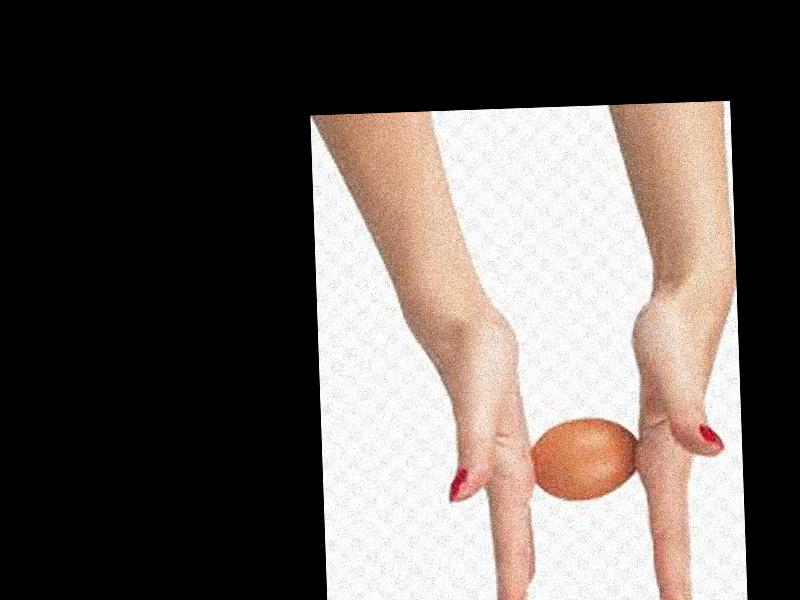Eggs: (529, 416, 637, 499)
